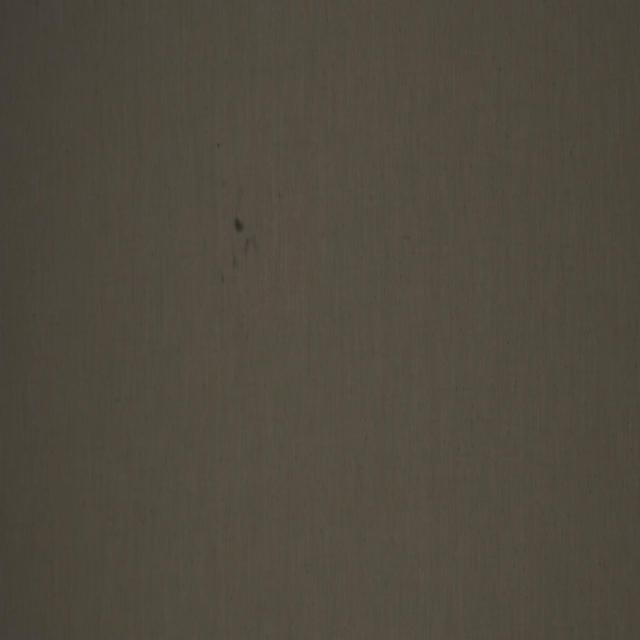dirty: (235, 217, 243, 231), (232, 247, 236, 266), (220, 272, 224, 282), (245, 240, 248, 253), (216, 141, 220, 148)
